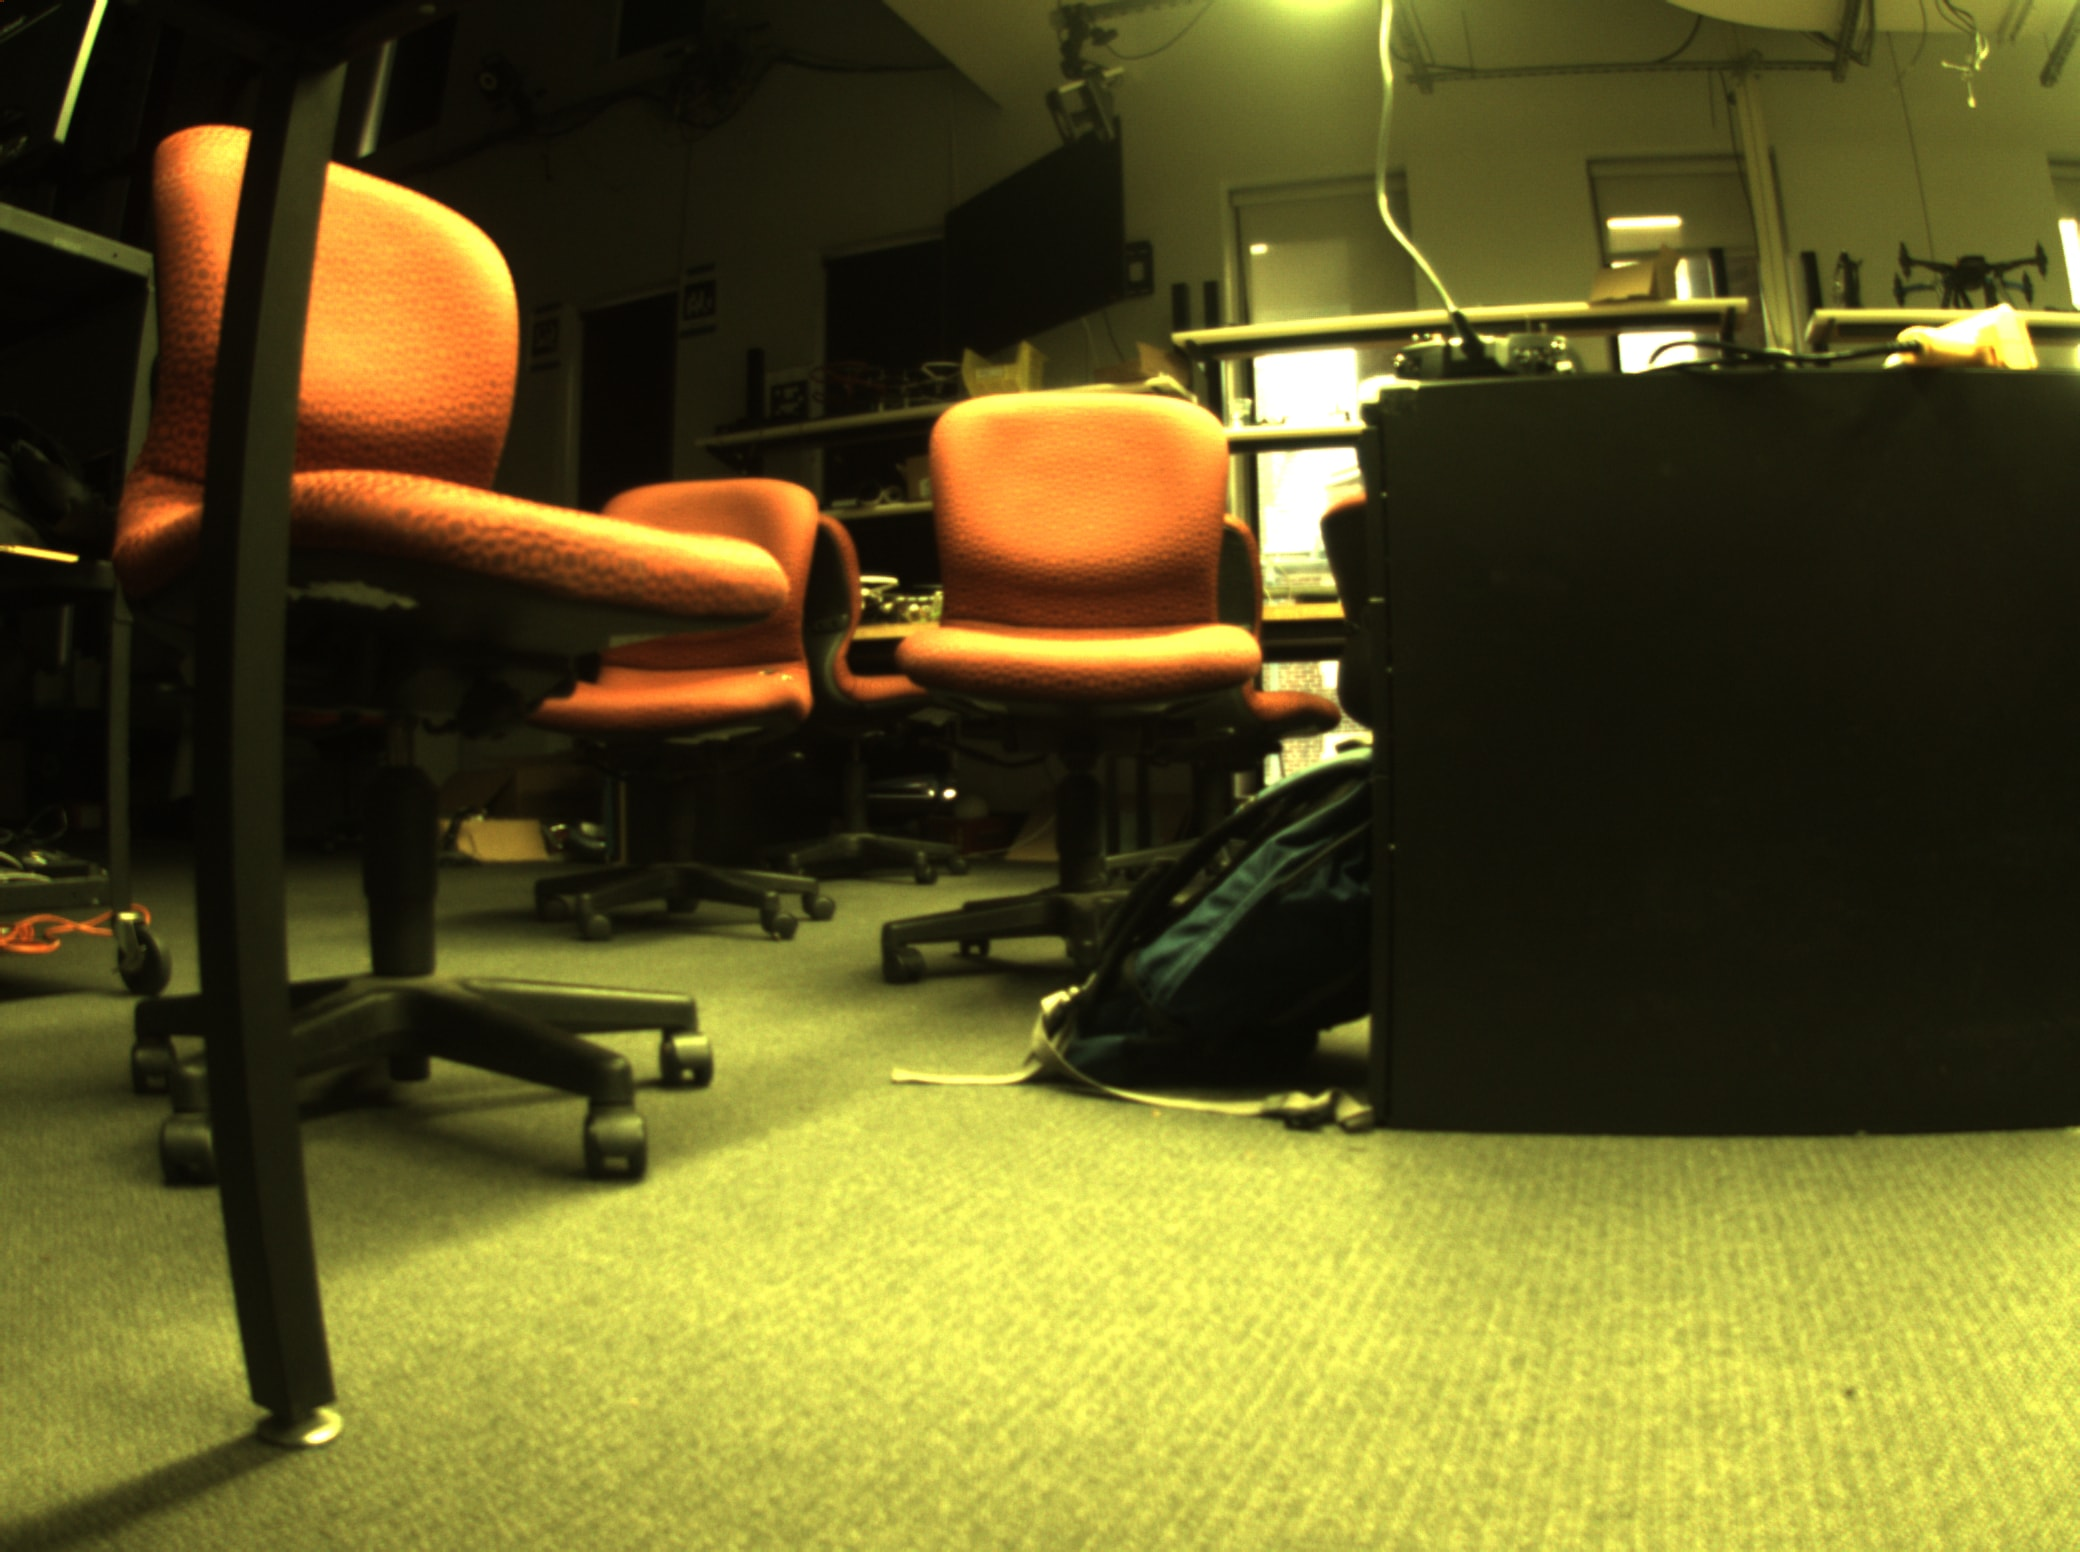chair: (101, 93, 740, 1216), (856, 373, 1275, 1007), (559, 439, 836, 959)
